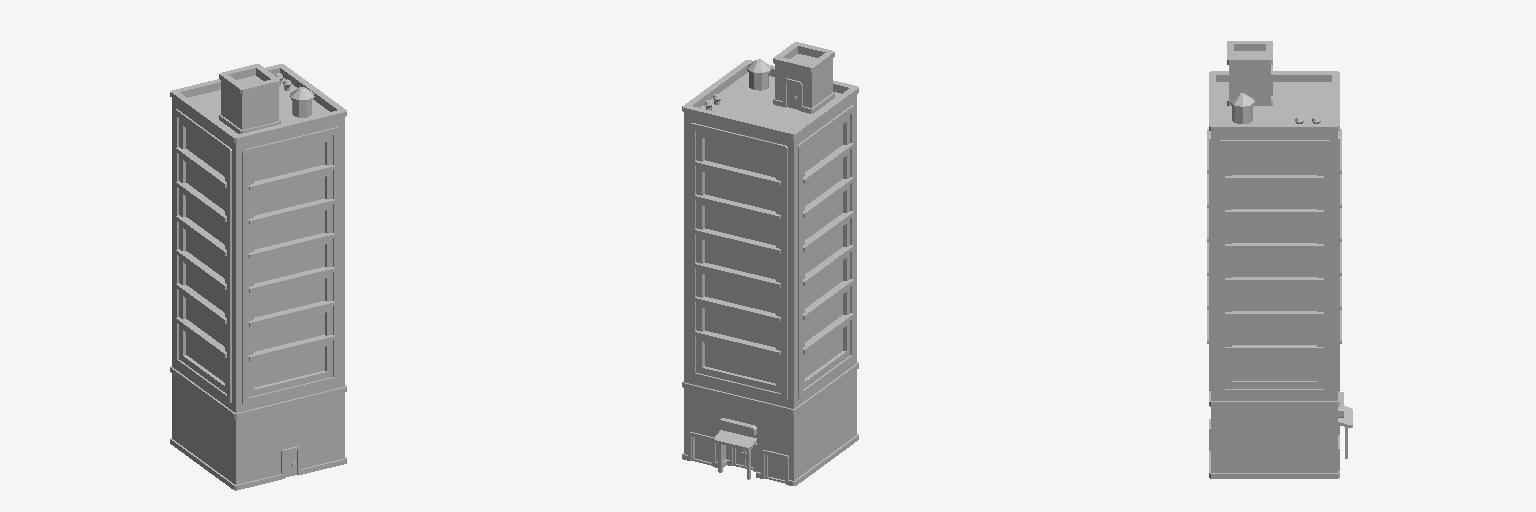
The model's file is commercial_building-skyscraper-c.obj.
The picture shows the model from 3 angles: view 1: azimuth 30°, elevation 25°; view 2: azimuth 150°, elevation 25°; view 3: azimuth 270°, elevation 25°; orthographic projection.
Parts seen in each view (by area): view 1: building-skyscraper-c; view 2: building-skyscraper-c; view 3: building-skyscraper-c.
Boxes of the visible parts, <box> form: building-skyscraper-c: <box>170,64,346,490</box>; building-skyscraper-c: <box>682,42,858,485</box>; building-skyscraper-c: <box>1207,41,1352,478</box>.
Size of the model in its own units: 1.28 by 4.08 by 1.39.